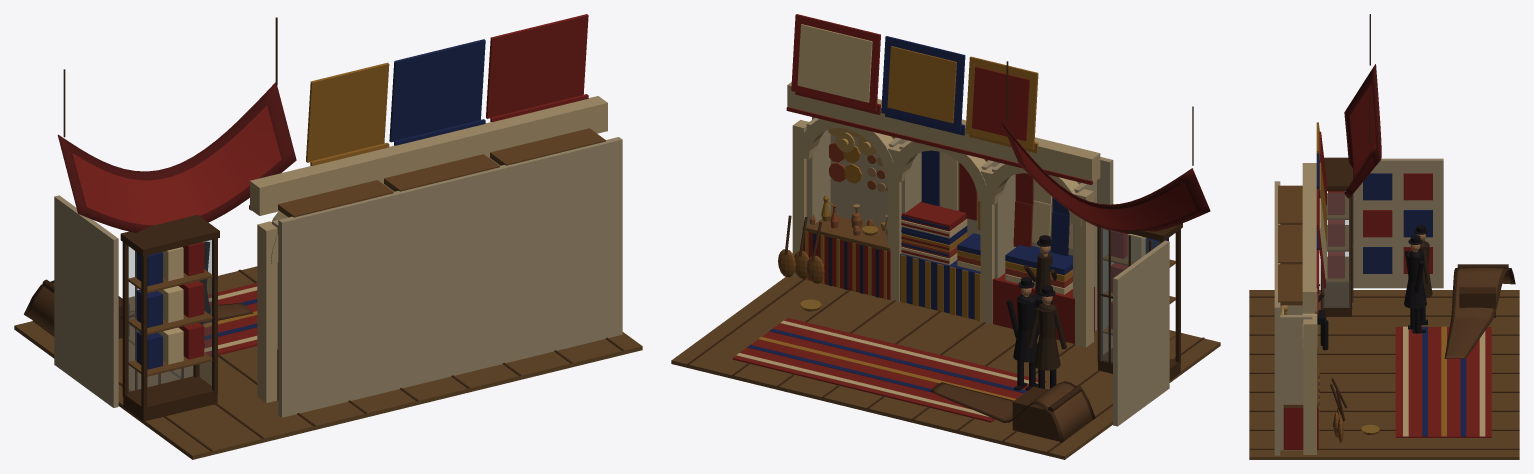
The model's file is scan-fig28-tunis-court-muse.glb.
The picture shows the model from 3 angles, left to right: view 1: azimuth 30°, elevation 25°; view 2: azimuth 150°, elevation 25°; view 3: azimuth 270°, elevation 25°; orthographic projection. The views are drawn at different scales.
Parts seen in each view (by area): view 1: BackWall, Floor, CarpetSwag, PanelWall, FasciaBeam, TopCarpet0, TopCarpet1, TopCarpet2, Pier3, CabinetBase, CabinetTop, AlcoveCeil1 (+21 smaller); view 2: Floor, RunnerBase, PanelWall, CarpetSwag, FasciaBeam, BackWall, TopCarpetBorder0, TopCarpetBorder1, AnimalHide, TopCarpetBorder2, CabGlassFront, Pier3 (+38 smaller); view 3: Floor, RunnerBase, PanelWall, AnimalHide, CarpetSwag, CabGlassSide, AlcoveCheek0_-1, FasciaBeam, Pier0, BackWall, AlcoveCeil0, AlcoveCeil2 (+25 smaller).
Part boxes in pixels (<box>): BackWall: <box>278,137,622,417</box>; Floor: <box>14,266,642,459</box>; CarpetSwag: <box>57,82,296,232</box>; PanelWall: <box>54,195,118,407</box>; FasciaBeam: <box>250,96,607,215</box>; TopCarpet0: <box>486,14,588,118</box>; TopCarpet1: <box>389,39,485,142</box>; TopCarpet2: <box>306,62,389,162</box>; Pier3: <box>257,221,277,402</box>; CabinetBase: <box>123,376,217,421</box>; CabinetTop: <box>120,215,219,256</box>; AlcoveCeil1: <box>384,154,499,191</box>; Floor: <box>671,275,1220,459</box>; RunnerBase: <box>732,318,1046,422</box>; PanelWall: <box>1113,240,1169,426</box>; CarpetSwag: <box>1001,121,1210,233</box>; FasciaBeam: <box>787,82,1100,182</box>; BackWall: <box>812,117,1113,329</box>; TopCarpetBorder0: <box>797,24,872,102</box>; TopCarpetBorder1: <box>887,46,956,123</box>; AnimalHide: <box>930,381,1095,443</box>; TopCarpetBorder2: <box>972,66,1029,141</box>; CabGlassFront: <box>1100,228,1159,363</box>; Pier3: <box>1075,189,1093,347</box>; Floor: <box>1249,290,1519,459</box>; RunnerBase: <box>1395,327,1491,437</box>; PanelWall: <box>1353,158,1443,288</box>; AnimalHide: <box>1444,267,1515,358</box>; CarpetSwag: <box>1344,64,1381,198</box>; CabGlassSide: <box>1322,193,1350,307</box>; AlcoveCheek0_-1: <box>1280,315,1312,450</box>; FasciaBeam: <box>1302,163,1317,313</box>; Pier0: <box>1303,319,1316,454</box>; BackWall: <box>1274,181,1280,455</box>; AlcoveCeil0: <box>1278,264,1302,305</box>; AlcoveCeil2: <box>1278,185,1302,224</box>.
Bounding box in the file's own units: 7.81 × 5.11 × 4.8.
